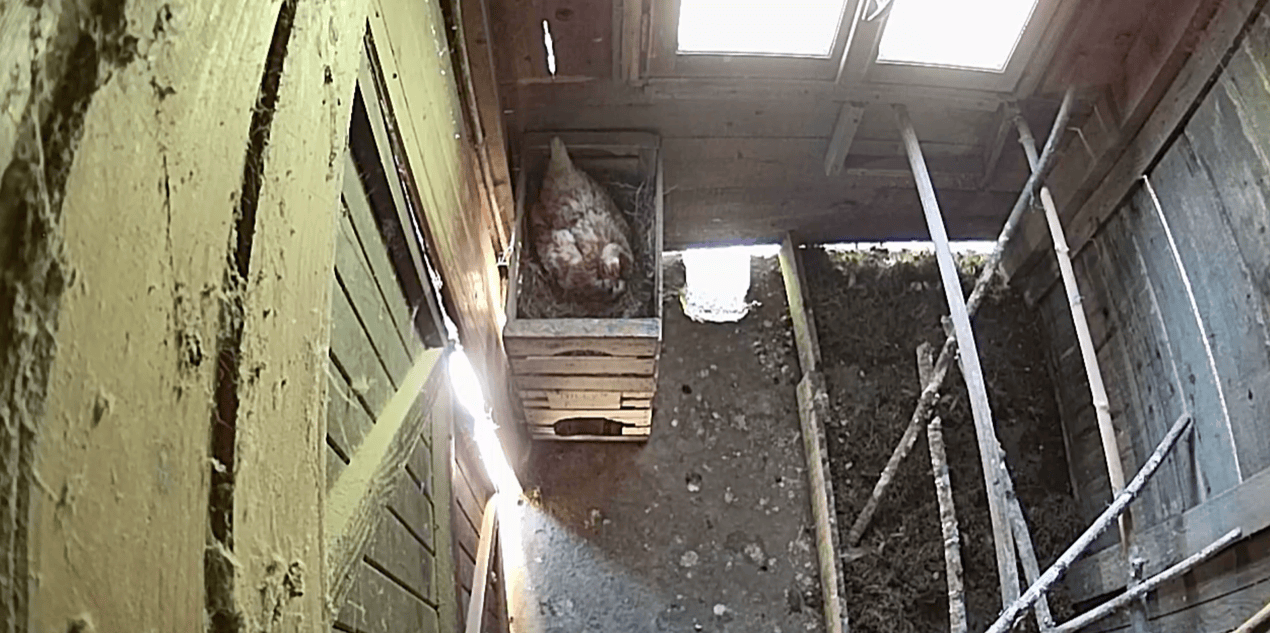chicken: (516, 137, 655, 313)
